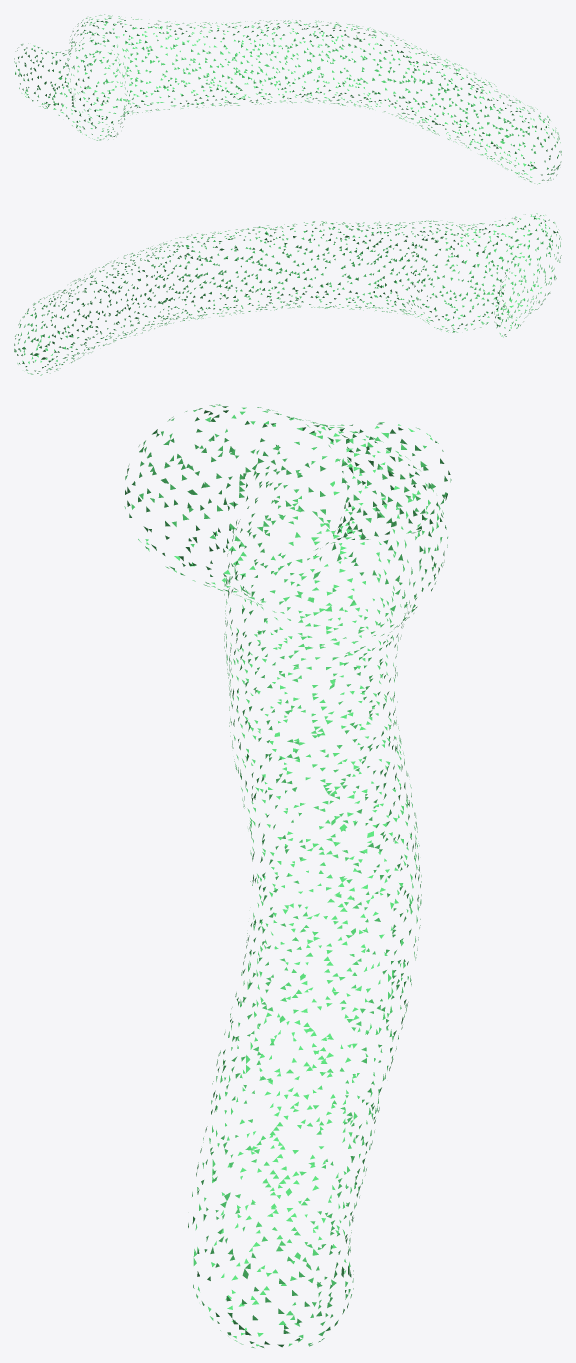
The model's file is morph_020.glb.
The picture shows the model from 3 angles, top to bottom: view 1: azimuth 30°, elevation 25°; view 2: azimuth 150°, elevation 25°; view 3: azimuth 270°, elevation 25°; orthographic projection. The views are drawn at different scales.
Size of the model in its own units: 127 by 60.95 by 35.96.
